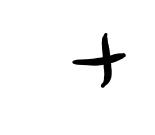plus: (70, 35, 124, 87)
